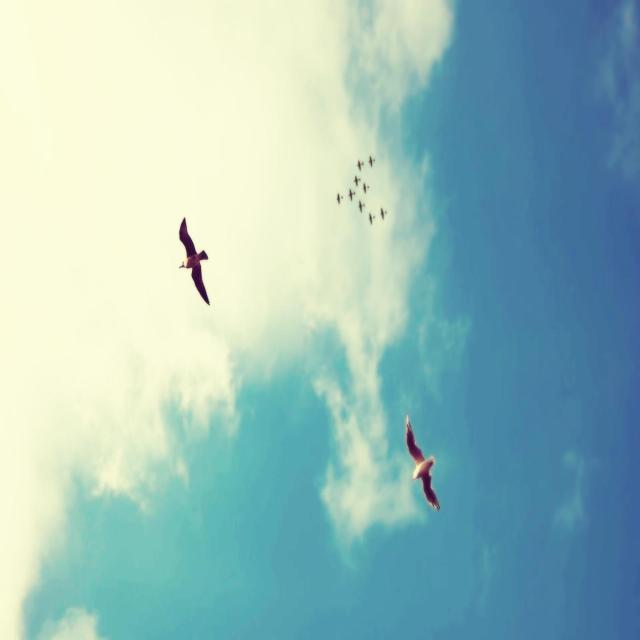airplane: (366, 150, 376, 167), (368, 210, 377, 228), (357, 198, 366, 214), (380, 205, 388, 221), (356, 158, 365, 172), (352, 173, 361, 187), (334, 192, 344, 204), (347, 190, 356, 202), (362, 180, 369, 194)
